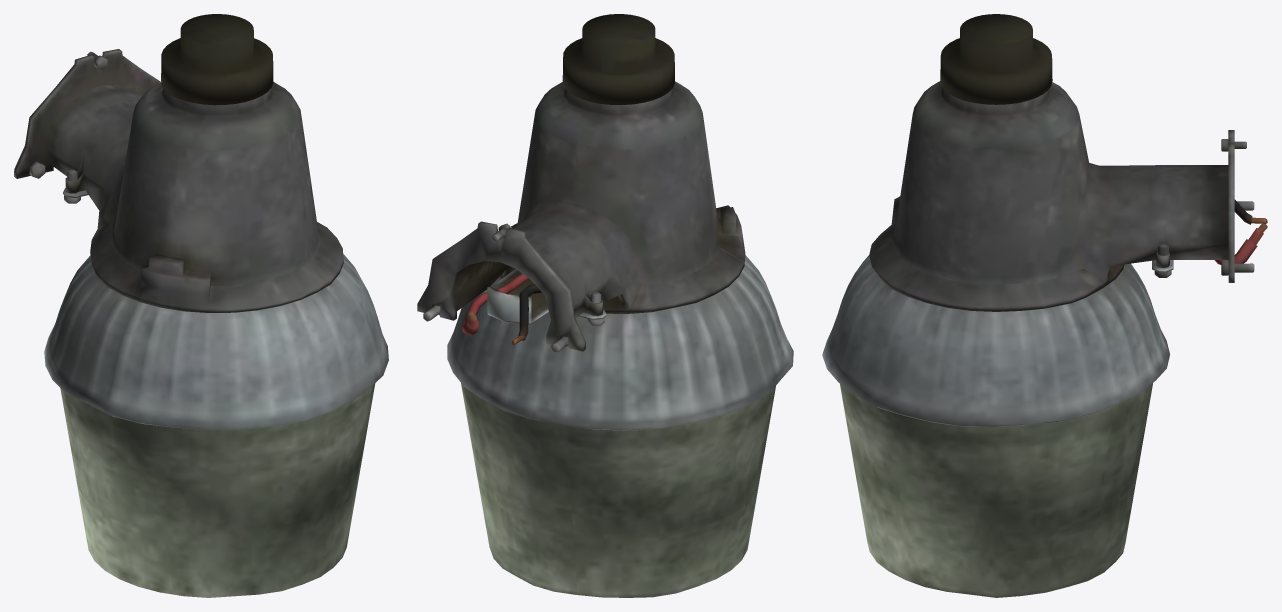
File: security_light.glb
The picture shows the model from 3 angles, left to right: view 1: azimuth 30°, elevation 25°; view 2: azimuth 150°, elevation 25°; view 3: azimuth 270°, elevation 25°; orthographic projection.
Visible parts, largest first — view 1: security_light_mesh, security_light_glass_mesh; view 2: security_light_mesh, security_light_glass_mesh; view 3: security_light_mesh, security_light_glass_mesh.
Part boxes in pixels (bbox=[...]): security_light_mesh: bbox=[14, 14, 388, 429]; security_light_glass_mesh: bbox=[60, 383, 375, 597]; security_light_mesh: bbox=[417, 14, 793, 430]; security_light_glass_mesh: bbox=[461, 383, 775, 597]; security_light_mesh: bbox=[822, 14, 1267, 426]; security_light_glass_mesh: bbox=[840, 383, 1152, 597].
Bounding box in the file's own units: 0.3232 × 0.531 × 0.4172.
3 materials, 3 textured.
